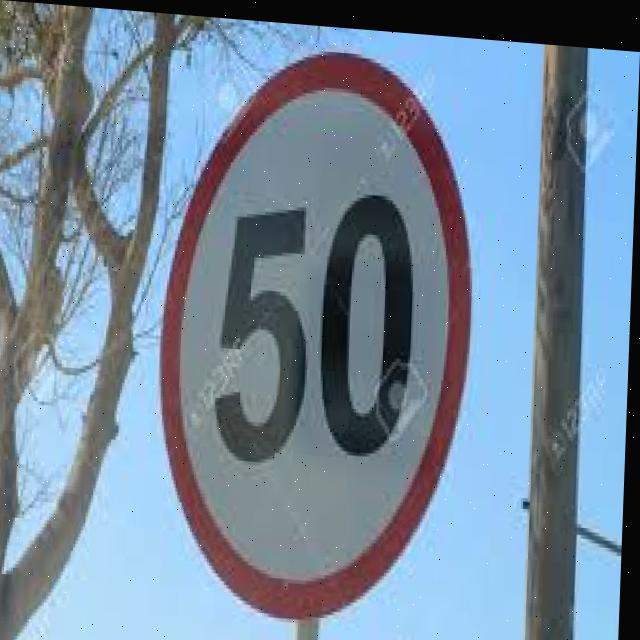Speed limit 50: (151, 30, 484, 629)
